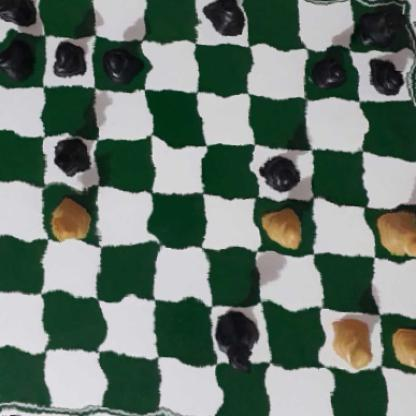black-bishop: (48, 137, 96, 177)
black-king: (202, 0, 247, 41)
black-pawn: (360, 55, 412, 95), (308, 49, 350, 90), (258, 151, 299, 192), (46, 39, 88, 79), (0, 38, 35, 78), (101, 43, 137, 81)
black-queen: (214, 304, 258, 379)
black-rook: (353, 0, 416, 49), (0, 0, 42, 31)
white-bishop: (51, 200, 91, 245)
white-king: (373, 206, 416, 262)
white-pawn: (323, 314, 382, 367), (260, 203, 306, 250), (390, 323, 416, 375)
